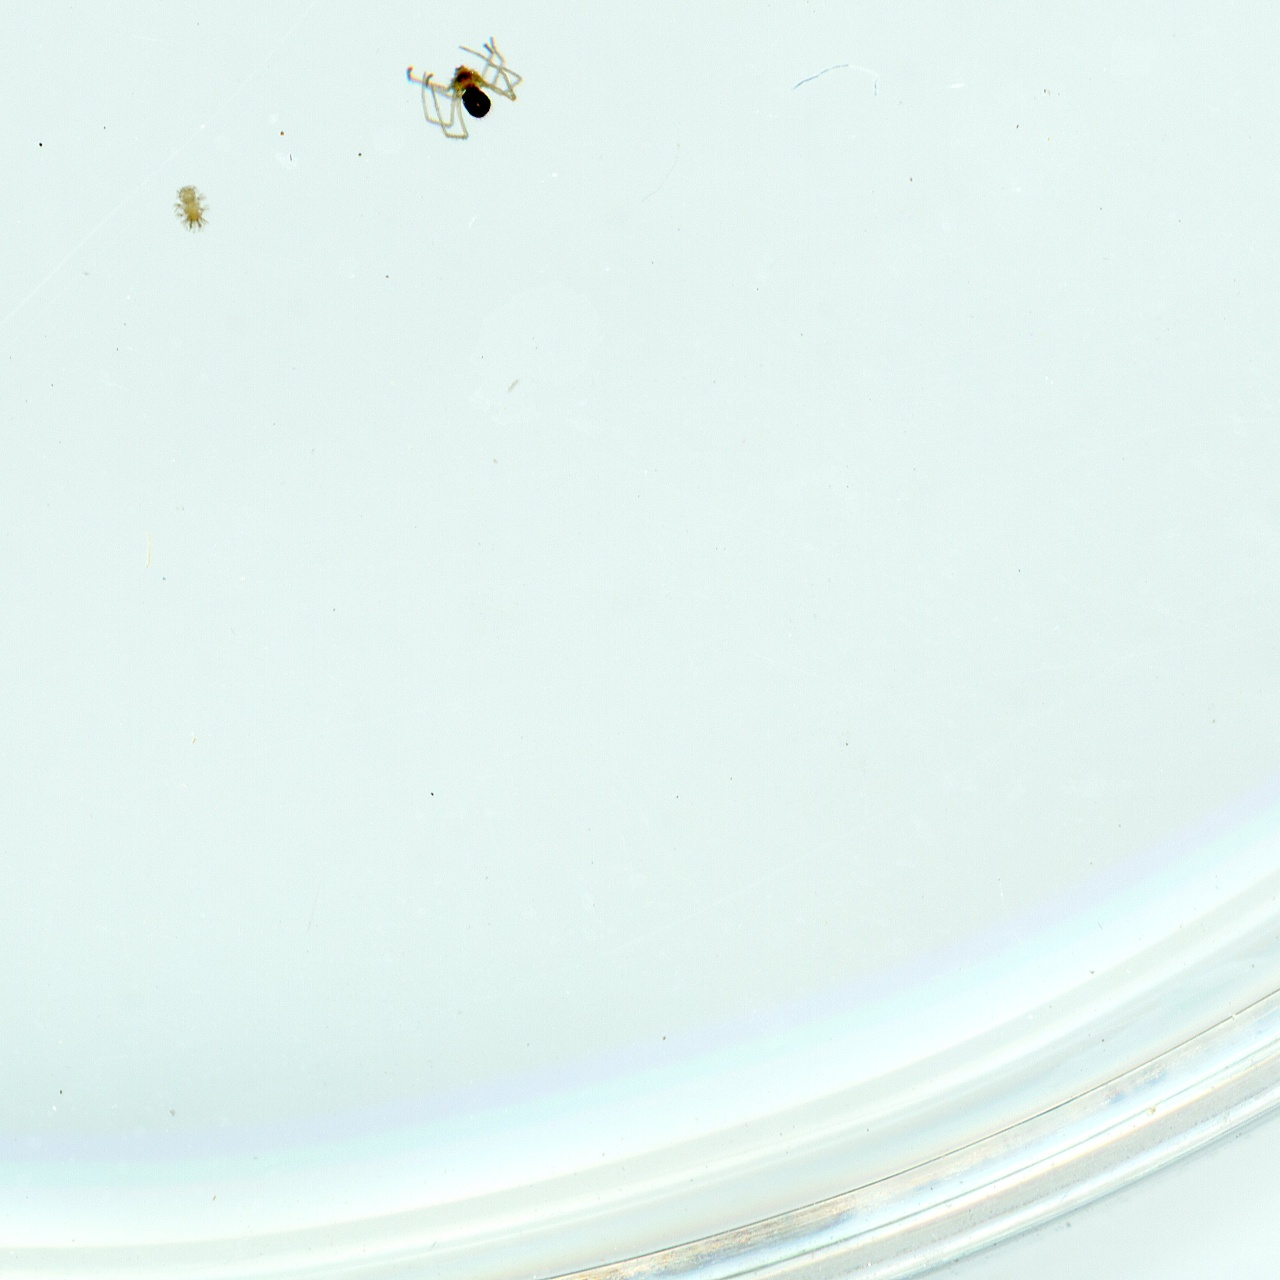arthropod: (393, 14, 539, 158), (169, 181, 215, 234)
